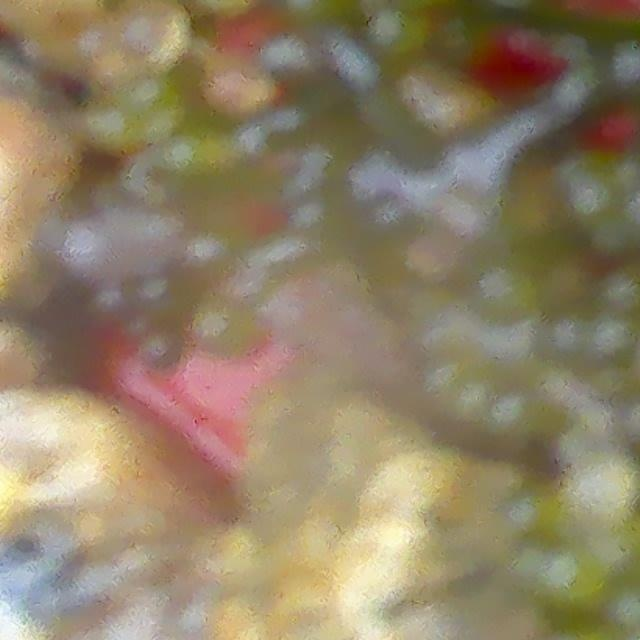SeaGrape: (541, 544, 609, 618)
